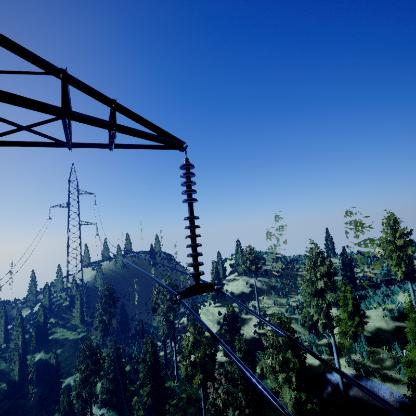insulator: (178, 160, 208, 282)
